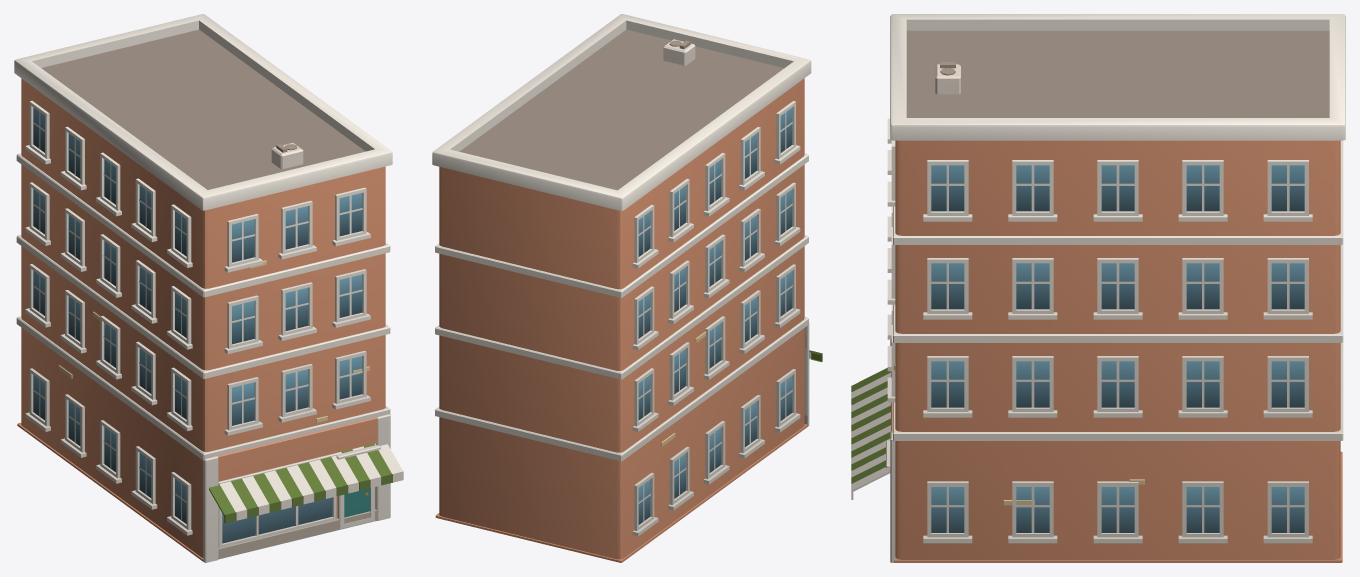
The model's file is boylston_s6.glb.
The picture shows the model from 3 angles, left to right: view 1: azimuth 30°, elevation 25°; view 2: azimuth 150°, elevation 25°; view 3: azimuth 270°, elevation 25°; orthographic projection. The views are drawn at different scales.
Visible parts, largest first — view 1: boylston_s6; view 2: boylston_s6; view 3: boylston_s6.
Part boxes in pixels (x1,y1,x2,y2): boylston_s6: (14, 14, 403, 562); boylston_s6: (432, 14, 822, 562); boylston_s6: (851, 14, 1345, 562).
Bounding box in the file's own units: 8.48 × 15.59 × 15.55.
1 material, 1 textured.
